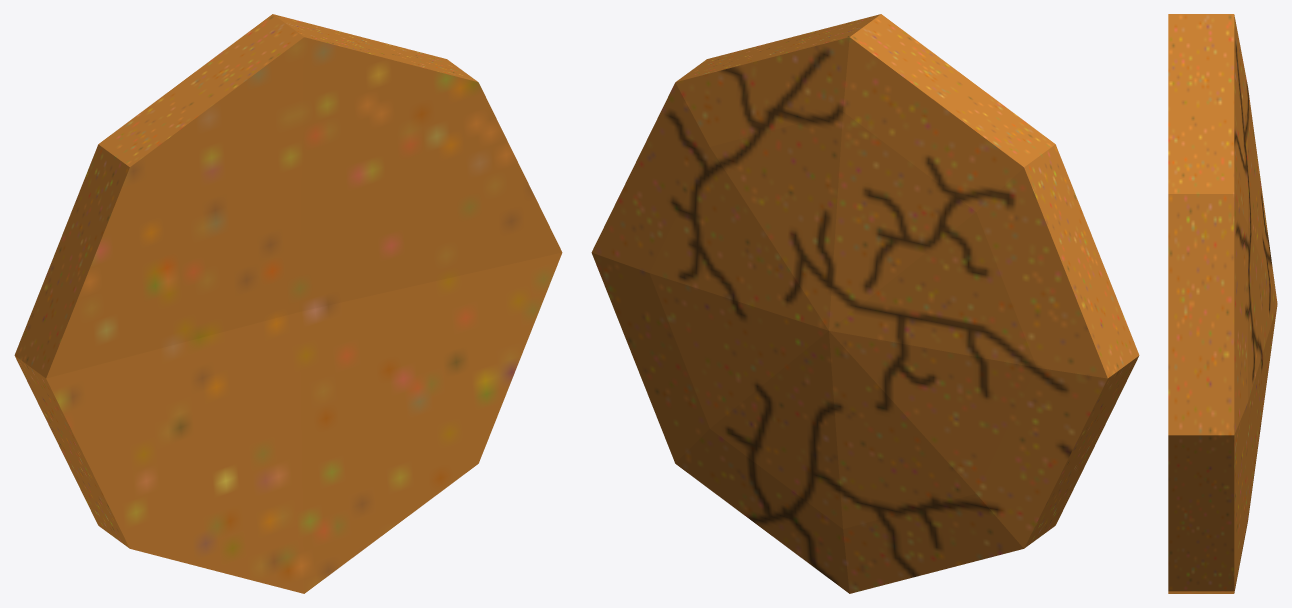
The model's file is sporting clay.glb.
The picture shows the model from 3 angles, left to right: view 1: azimuth 30°, elevation 25°; view 2: azimuth 150°, elevation 25°; view 3: azimuth 270°, elevation 25°; orthographic projection. The views are drawn at different scales.
Parts seen in each view (by area): view 1: Cube.004; view 2: Cube.004; view 3: Cube.004.
Boxes of the visible parts, <box> form: Cube.004: <box>14,14,562,593</box>; Cube.004: <box>591,14,1139,593</box>; Cube.004: <box>1168,14,1277,593</box>.
Size of the model in its own units: 0.4551 by 0.4689 by 0.08.
1 material, 1 textured.
